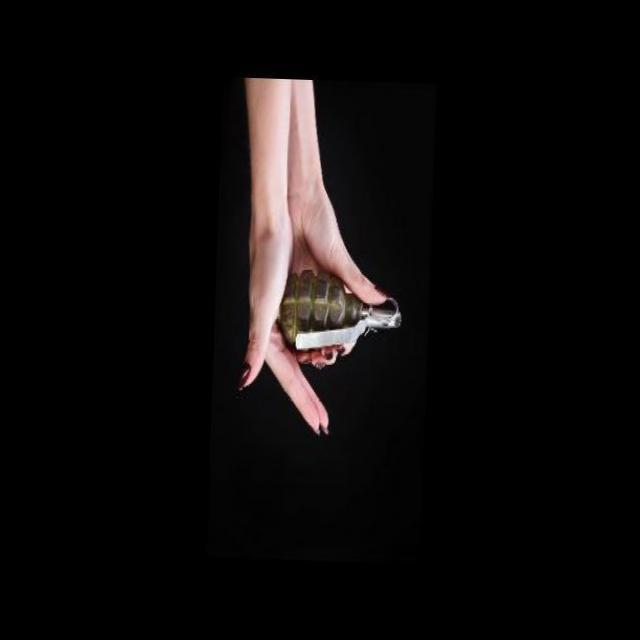grenade: (272, 257, 409, 367)
